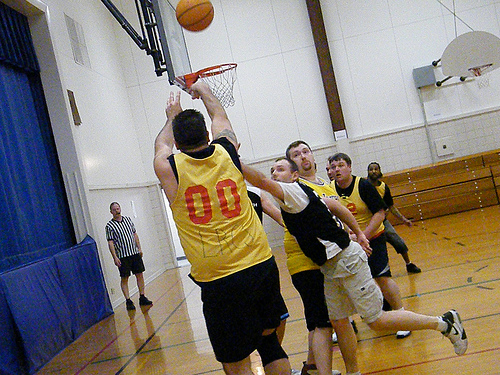basketball: (176, 1, 214, 33)
